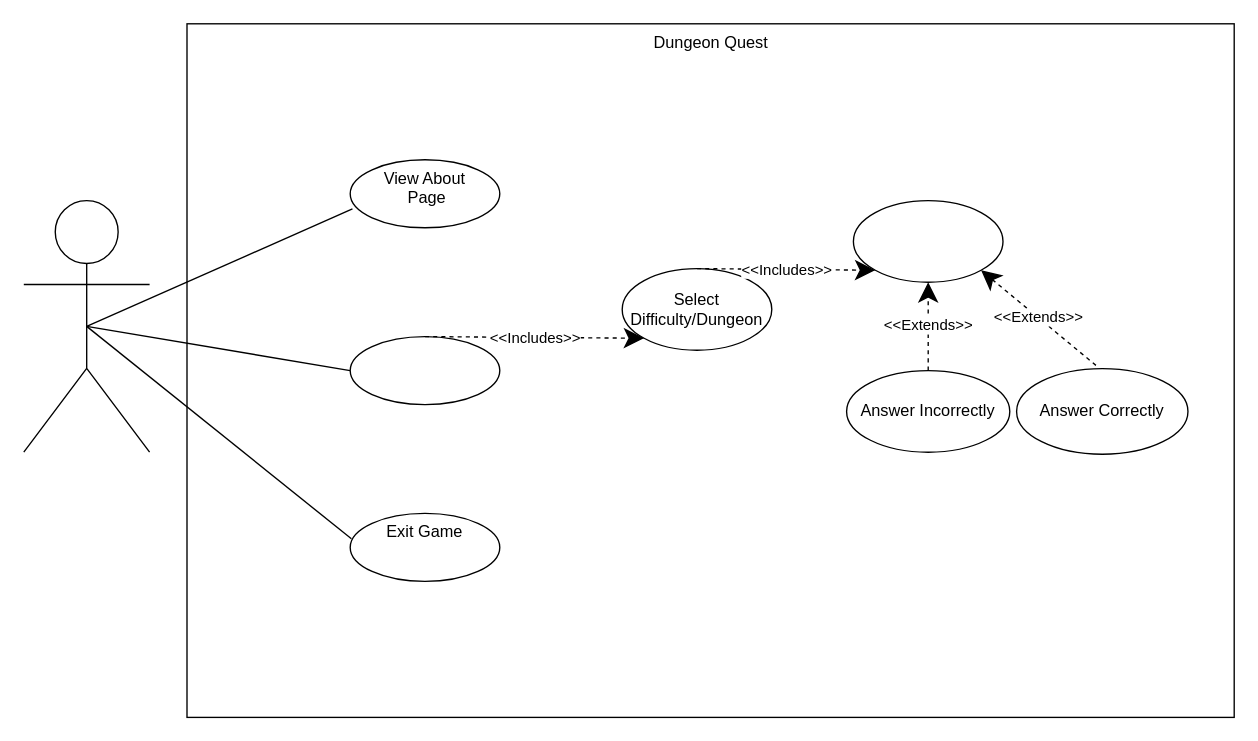
Some shapes in this 1258 by 741 pixel diagram are drawn without their labels. The shapes that lost their labels are listed below. From the top down, each one's centre as x and y in pixels, then its label:
At (x=927, y=240): "Encounter Enemy/Answer Question".
At (x=86, y=325): "Player".
At (x=424, y=370): "Start Game Session".
